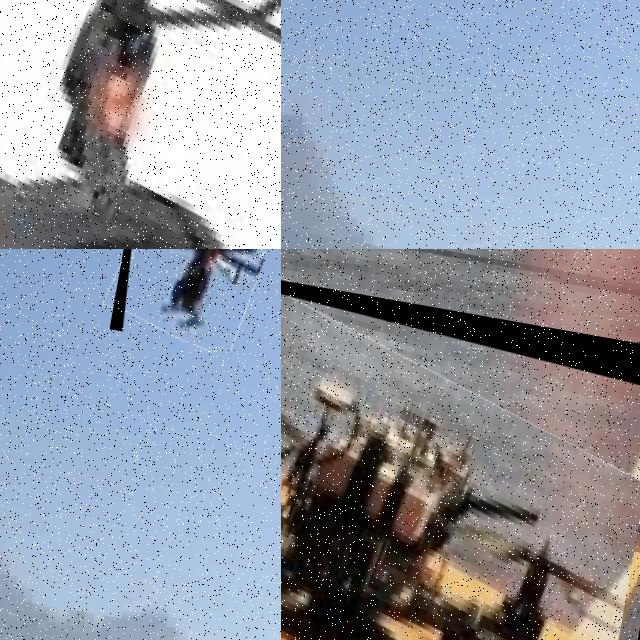drone: (281, 249, 640, 640), (0, 0, 281, 249), (108, 249, 281, 353)
